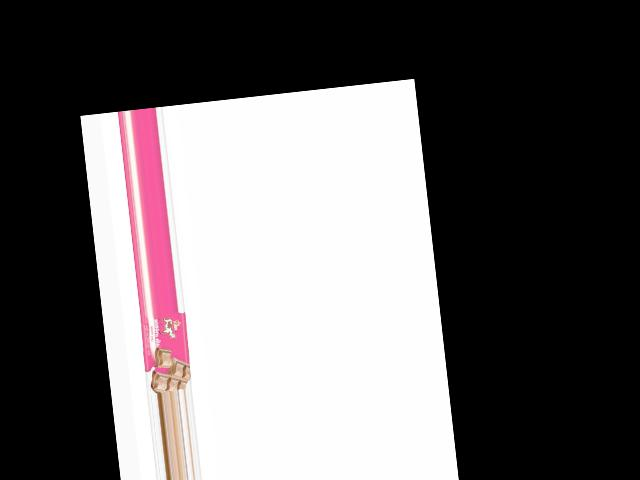chocolate: (138, 311, 192, 393)
